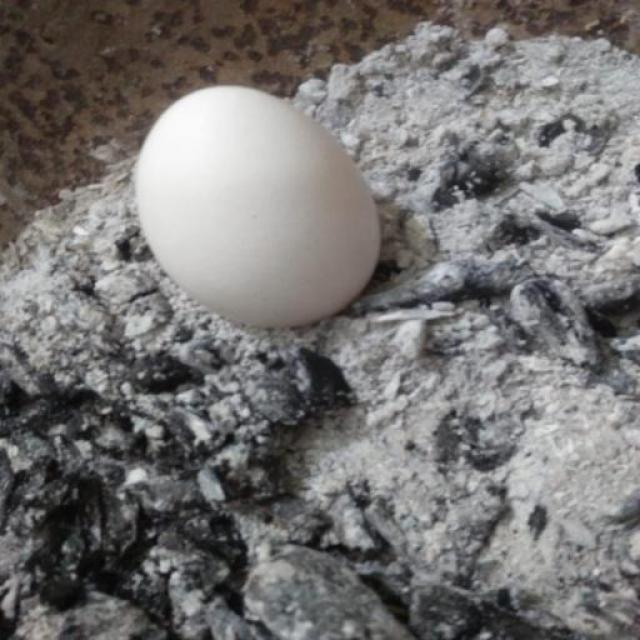telur: (135, 86, 379, 328)
